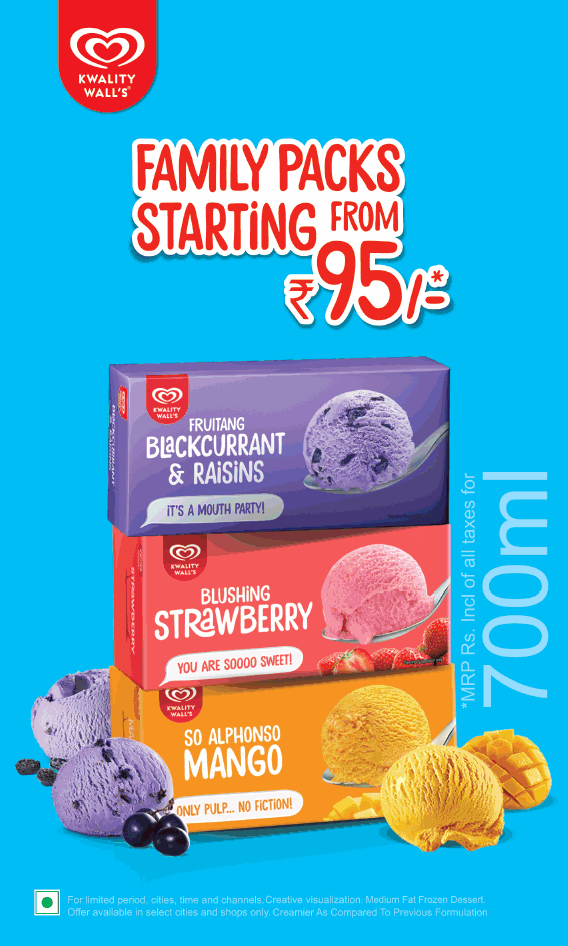Kwality_Walls: (65, 19, 147, 71), (162, 537, 207, 572), (159, 683, 200, 711), (152, 383, 185, 412)
